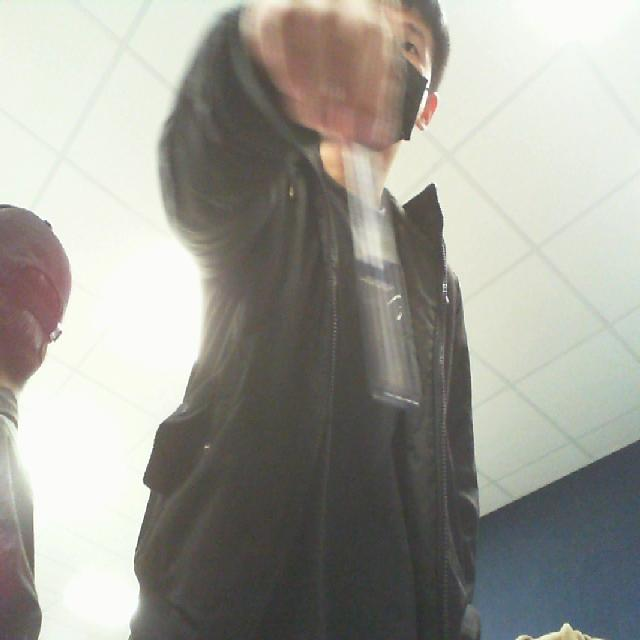Pen: (336, 111, 432, 428)
